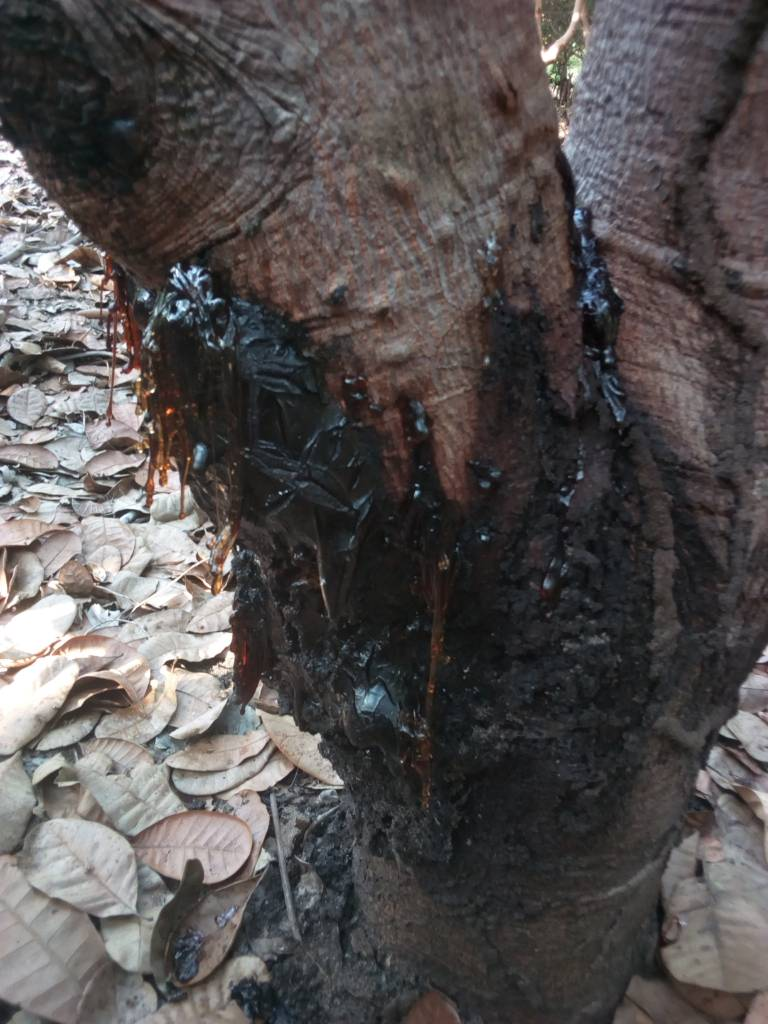Gommose: (91, 258, 460, 771), (485, 457, 638, 842), (571, 221, 629, 402)
